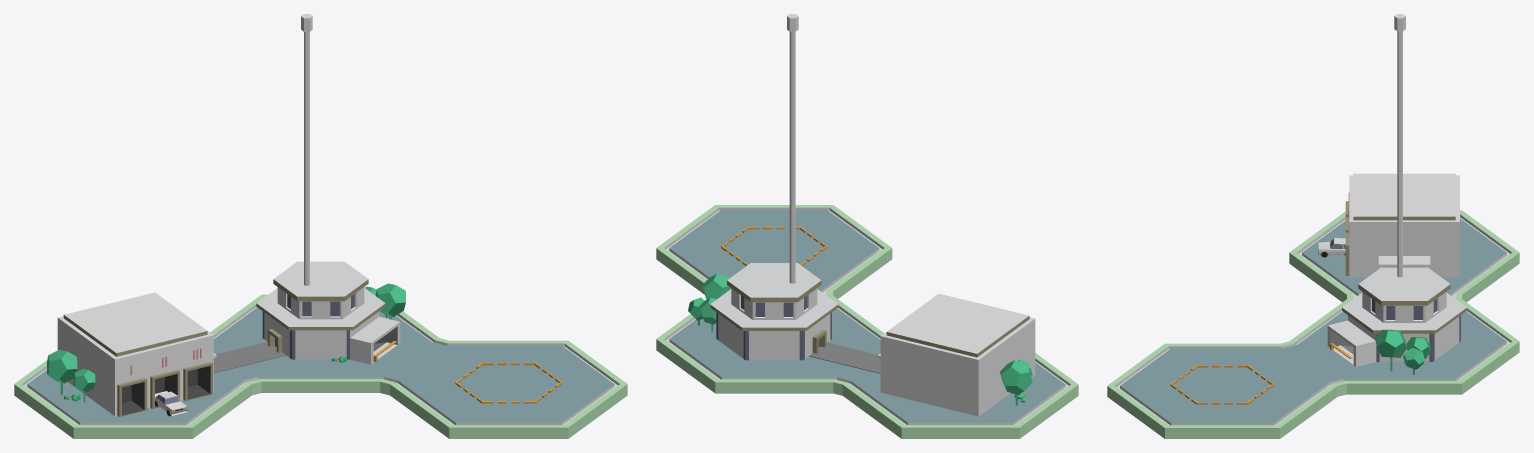
File: Role_Merchant_LV1.fbx
3 views of the same model, side by side, from view 1: azimuth 30°, elevation 25°; view 2: azimuth 150°, elevation 25°; view 3: azimuth 270°, elevation 25° (orthographic). The views are drawn at different scales.
Parts seen in each view (by area): view 1: 柱体.013; view 2: 柱体.013; view 3: 柱体.013.
Boxes of the visible parts, left/top/right/bottom form: 柱体.013: left=14, top=14, right=627, bottom=438; 柱体.013: left=656, top=14, right=1078, bottom=438; 柱体.013: left=1107, top=14, right=1519, bottom=438.
Bounding box in the file's own units: 424 × 299 × 340.
